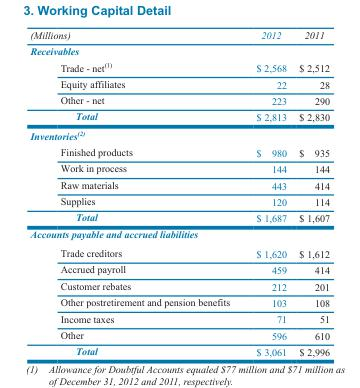table: (29, 29, 329, 357)
table column: (29, 29, 242, 357), (242, 29, 292, 357), (292, 29, 329, 357)
table column header: (29, 29, 329, 42)
table projected row header: (29, 125, 329, 143), (29, 225, 329, 242), (29, 42, 329, 58)
table row: (29, 242, 329, 261), (29, 125, 329, 143), (29, 58, 329, 75), (29, 91, 329, 108), (29, 108, 329, 125), (29, 143, 329, 160), (29, 192, 329, 209), (29, 225, 329, 242), (29, 293, 329, 310), (29, 326, 329, 343), (29, 42, 329, 58), (29, 75, 329, 91), (29, 160, 329, 176), (29, 176, 329, 192), (29, 209, 329, 225), (29, 261, 329, 277), (29, 277, 329, 293), (29, 310, 329, 326), (29, 343, 329, 357), (29, 29, 329, 42)
